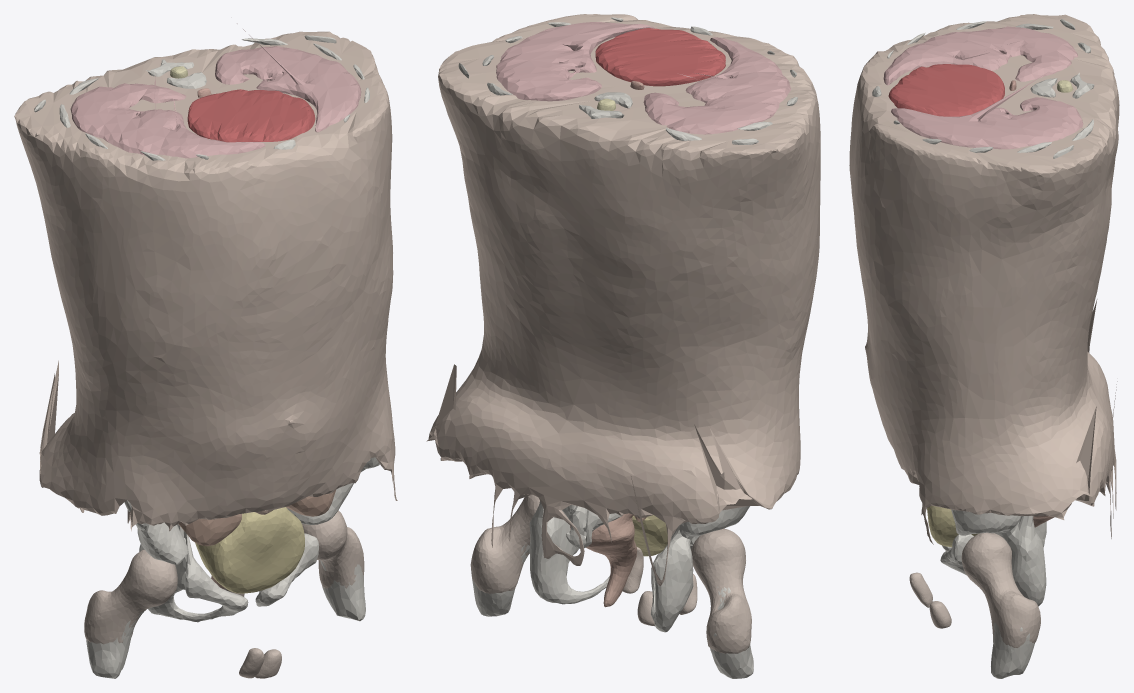
File: peds-child.glb
3 renders of one model, left to right at view 1: azimuth 30°, elevation 25°; view 2: azimuth 150°, elevation 25°; view 3: azimuth 270°, elevation 25°, orthographic. The views are drawn at different scales.
Parts seen in each view (by area): view 1: skin, bones, lung_r, lung_l, bladder, heart, femur_head_r, femur_head_l, large_intestine, gonads; view 2: skin, bones, lung_r, lung_l, heart, femur_head_r, femur_head_l, rectum, bladder, gonads; view 3: skin, bones, lung_l, lung_r, femur_head_l, heart, gonads, bladder.
Part boxes in pixels (x1=…): skin: x1=14, y1=31, x2=397, y2=531; bones: x1=34, y1=35, x2=379, y2=678; lung_r: x1=70, y1=75, x2=265, y2=158; lung_l: x1=215, y1=23, x2=361, y2=132; bladder: x1=195, y1=507, x2=304, y2=593; heart: x1=187, y1=89, x2=315, y2=142; femur_head_r: x1=84, y1=549, x2=177, y2=644; femur_head_l: x1=302, y1=510, x2=364, y2=588; large_intestine: x1=178, y1=489, x2=336, y2=546; gonads: x1=239, y1=648, x2=281, y2=678; skin: x1=426, y1=14, x2=820, y2=586; bones: x1=458, y1=17, x2=797, y2=678; lung_r: x1=643, y1=37, x2=790, y2=134; lung_l: x1=496, y1=22, x2=654, y2=101; heart: x1=595, y1=28, x2=725, y2=86; femur_head_r: x1=691, y1=528, x2=751, y2=653; femur_head_l: x1=470, y1=494, x2=539, y2=593; rectum: x1=570, y1=513, x2=636, y2=607; bladder: x1=632, y1=515, x2=667, y2=556; gonads: x1=637, y1=574, x2=697, y2=626; skin: x1=849, y1=14, x2=1119, y2=544; bones: x1=872, y1=19, x2=1094, y2=678; lung_l: x1=891, y1=72, x2=1083, y2=149; lung_r: x1=883, y1=26, x2=1077, y2=85; femur_head_l: x1=961, y1=532, x2=1040, y2=647; heart: x1=888, y1=64, x2=1004, y2=116; gonads: x1=909, y1=572, x2=951, y2=628; bladder: x1=927, y1=505, x2=979, y2=547.
Size of the model in its own units: 0.2205 by 0.3682 by 0.1571.
